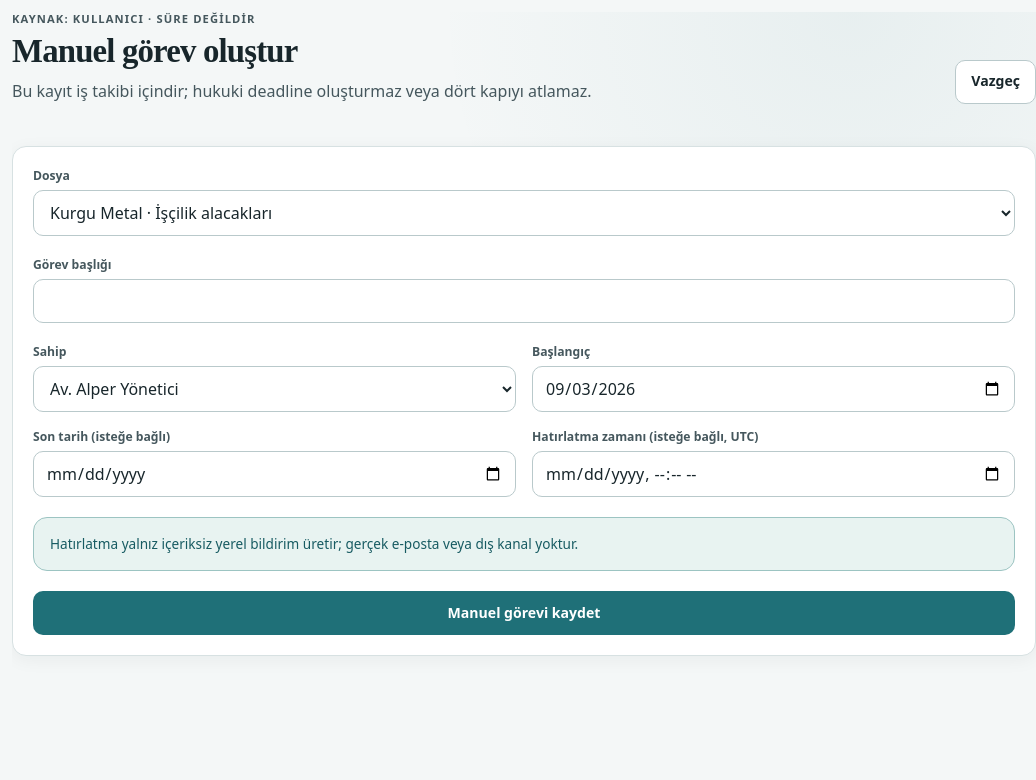
it: back-office ekranları › manuel görev formu boş başlığı store guardıyla engeller
Click the button "Manuel görevi kaydet" at [524, 613], box [33,591,1015,635]
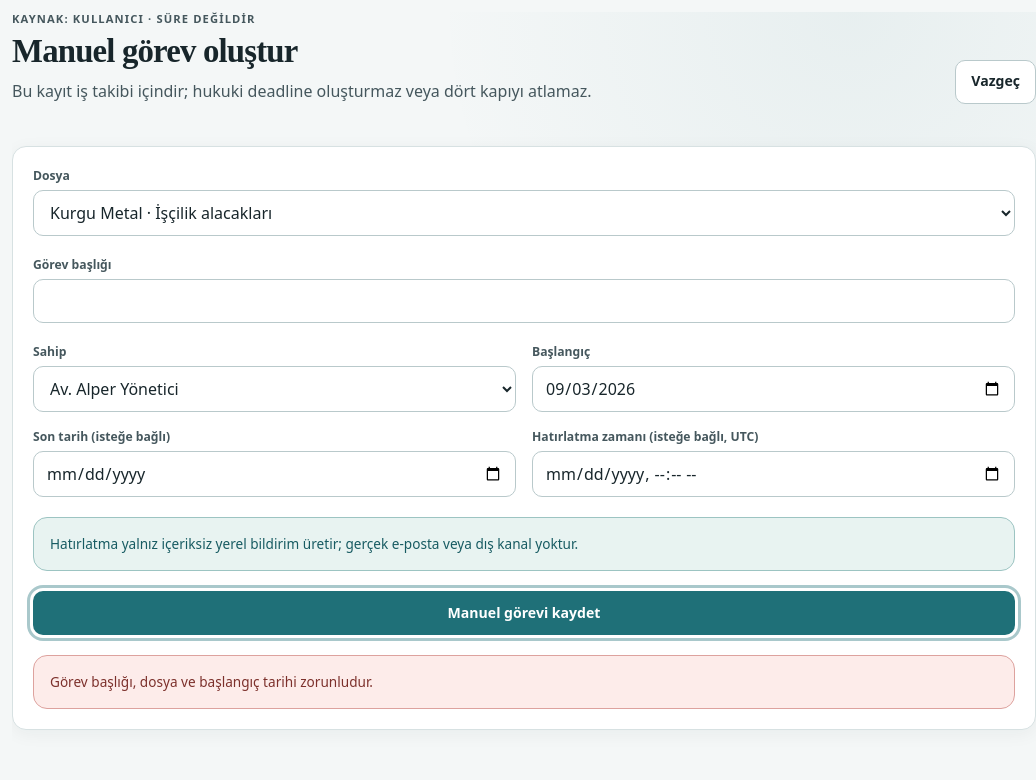
Result: the message shows "Görev başlığı" at [50,672,373,691]
